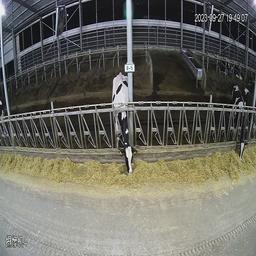cow: (111, 71, 136, 176), (231, 84, 249, 161)
